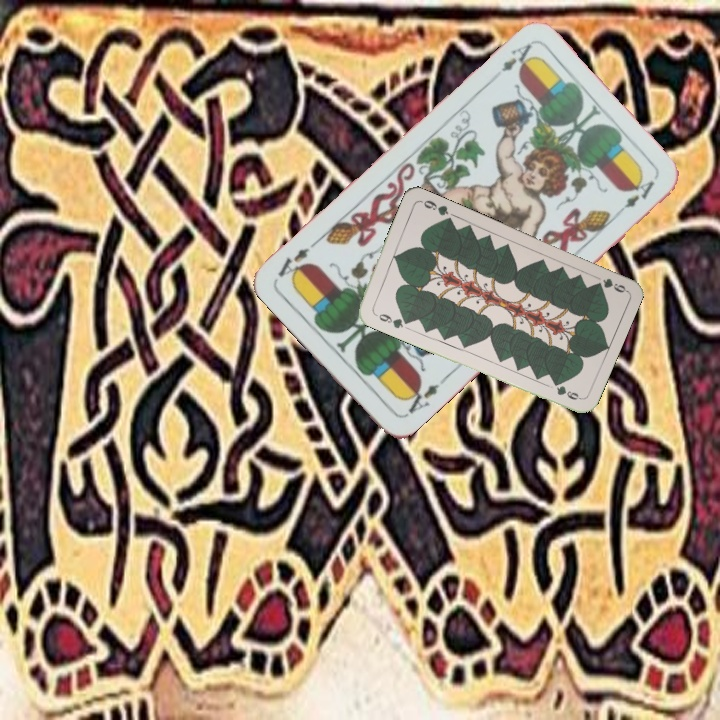EA: (397, 374, 448, 420), (497, 39, 538, 76)
G9: (369, 308, 409, 331), (591, 274, 629, 295)
